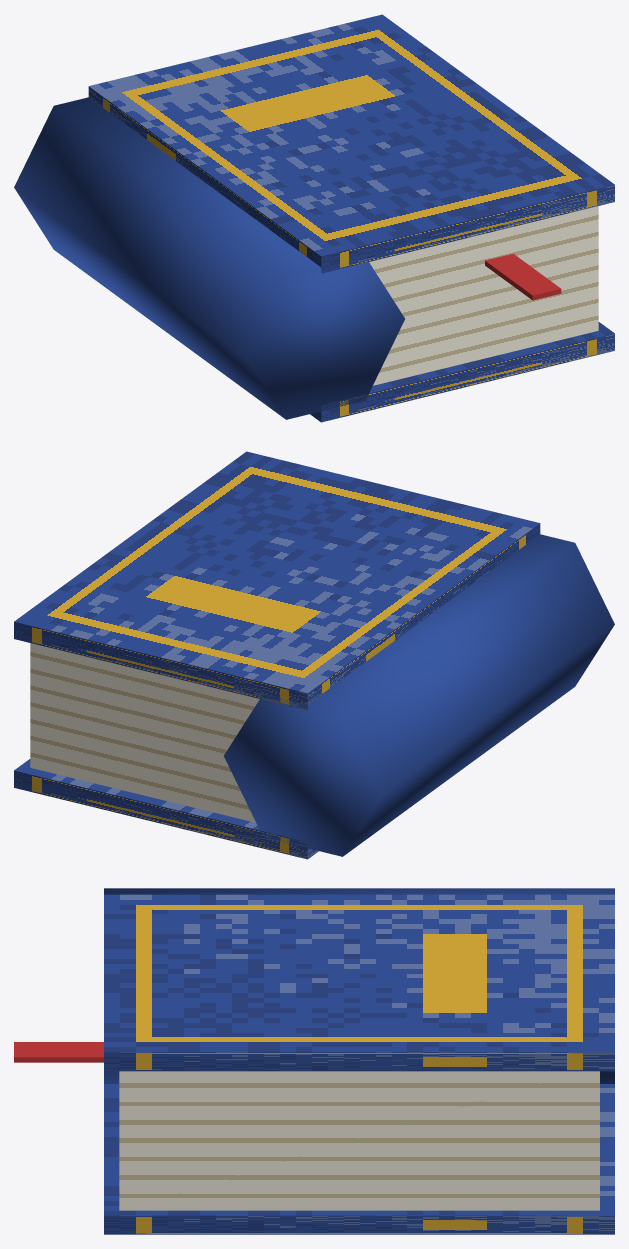
Rendered from life-book.glb.
3 renders of one model, top to bottom at view 1: azimuth 30°, elevation 25°; view 2: azimuth 150°, elevation 25°; view 3: azimuth 270°, elevation 25°, orthographic. The views are drawn at different scales.
Visible parts, largest first — view 1: life.book; view 2: life.book; view 3: life.book.
Part boxes in pixels (bbox=[...]): life.book: bbox=[14, 14, 614, 422]; life.book: bbox=[14, 451, 614, 859]; life.book: bbox=[14, 888, 614, 1234].
Size of the model in its own units: 1.19 by 0.5114 by 1.53.
4 materials, 3 textured.
